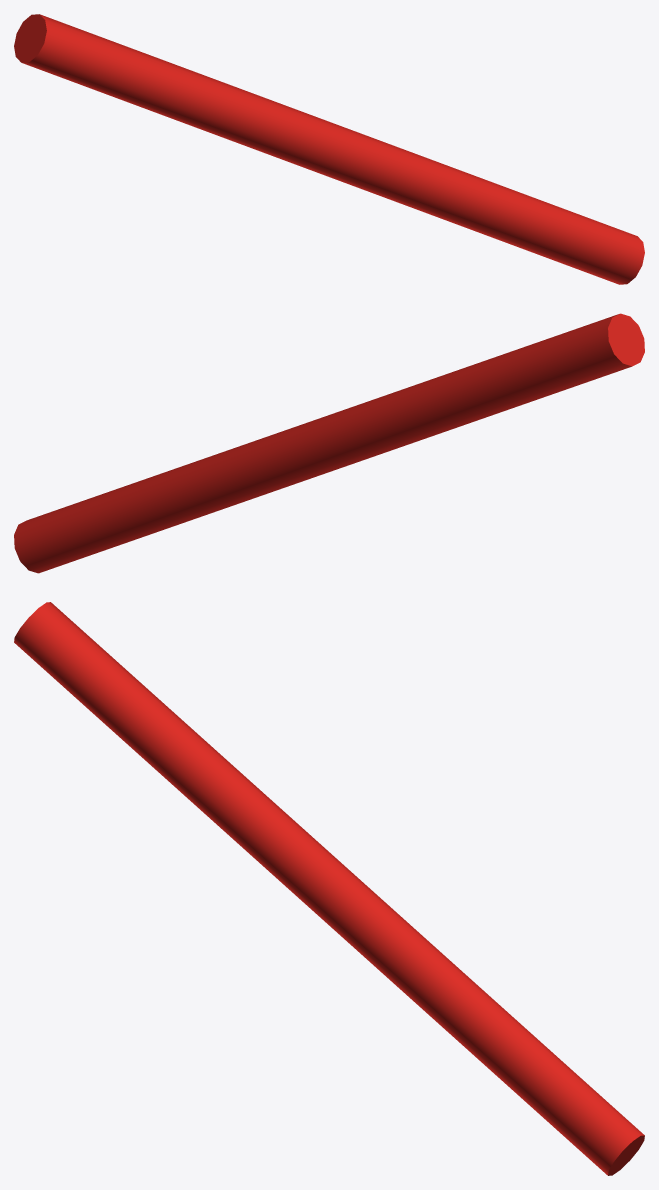
Rendered from front_right_arm.obj.
The picture shows the model from 3 angles, top to bottom: view 1: azimuth 30°, elevation 25°; view 2: azimuth 150°, elevation 25°; view 3: azimuth 330°, elevation 25°; orthographic projection. The views are drawn at different scales.
Visible parts, largest first — view 1: front_right_arm; view 2: front_right_arm; view 3: front_right_arm.
Part boxes in pixels (x1,y1,x2,y2): front_right_arm: [14, 14, 644, 284]; front_right_arm: [14, 313, 644, 573]; front_right_arm: [14, 602, 644, 1175].
Bounding box in the file's own units: 0.295 × 0.1827 × 0.0367.
